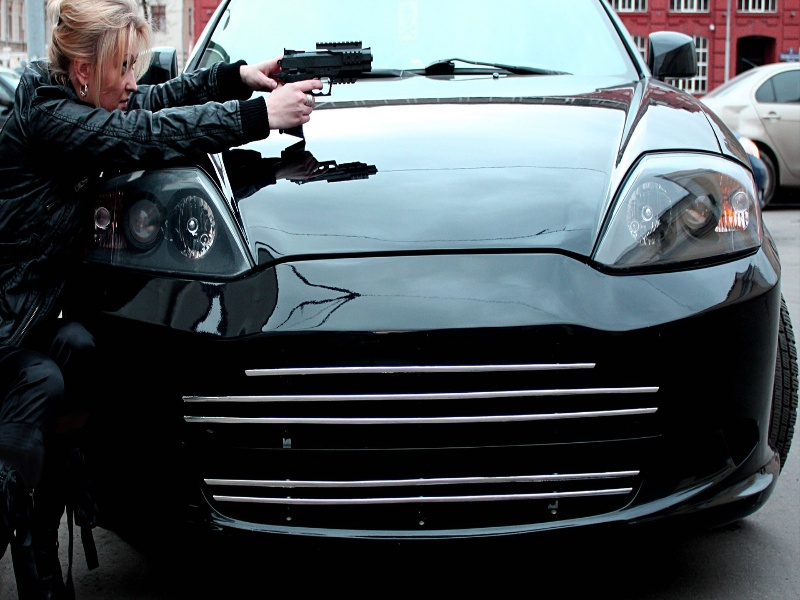car: (79, 1, 800, 556), (699, 62, 800, 206)
person: (1, 1, 323, 600)
weapon: (277, 41, 374, 133)
